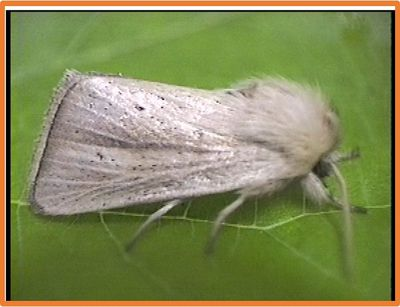Noctuidae: (23, 67, 373, 260)
